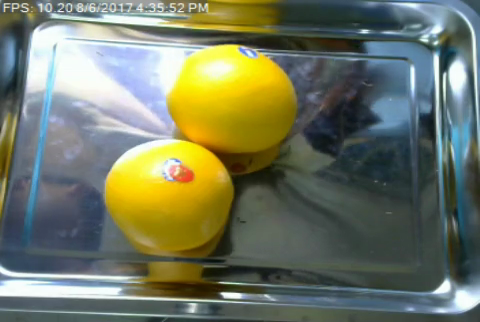Orange: (102, 138, 234, 249), (166, 43, 298, 153)
